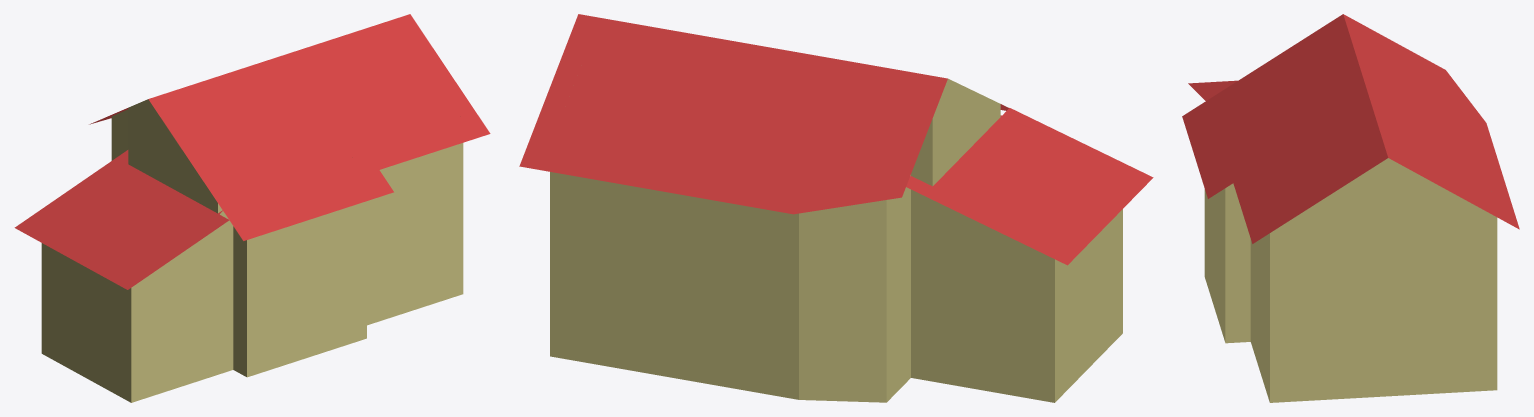
3 views of the same model, side by side, from view 1: azimuth 30°, elevation 25°; view 2: azimuth 150°, elevation 25°; view 3: azimuth 270°, elevation 25° (orthographic). The views are drawn at different scales.
Bounding box in the file's own units: 24.61 × 16.68 × 13.46.
